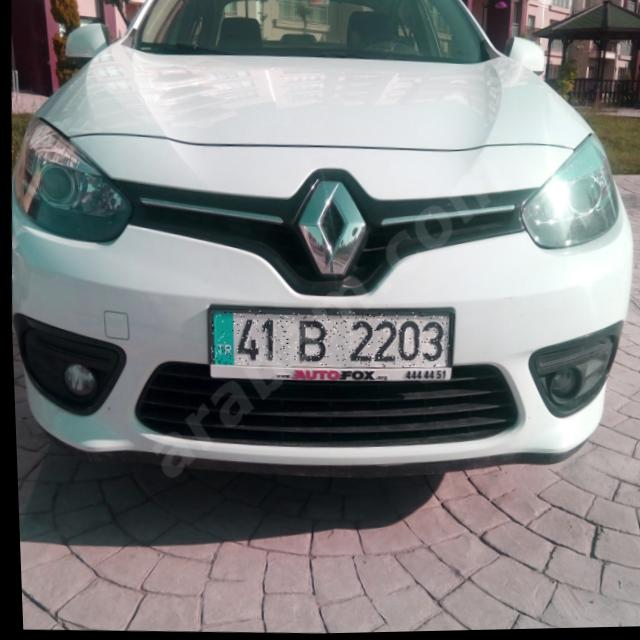license_plate: (206, 306, 448, 374)
